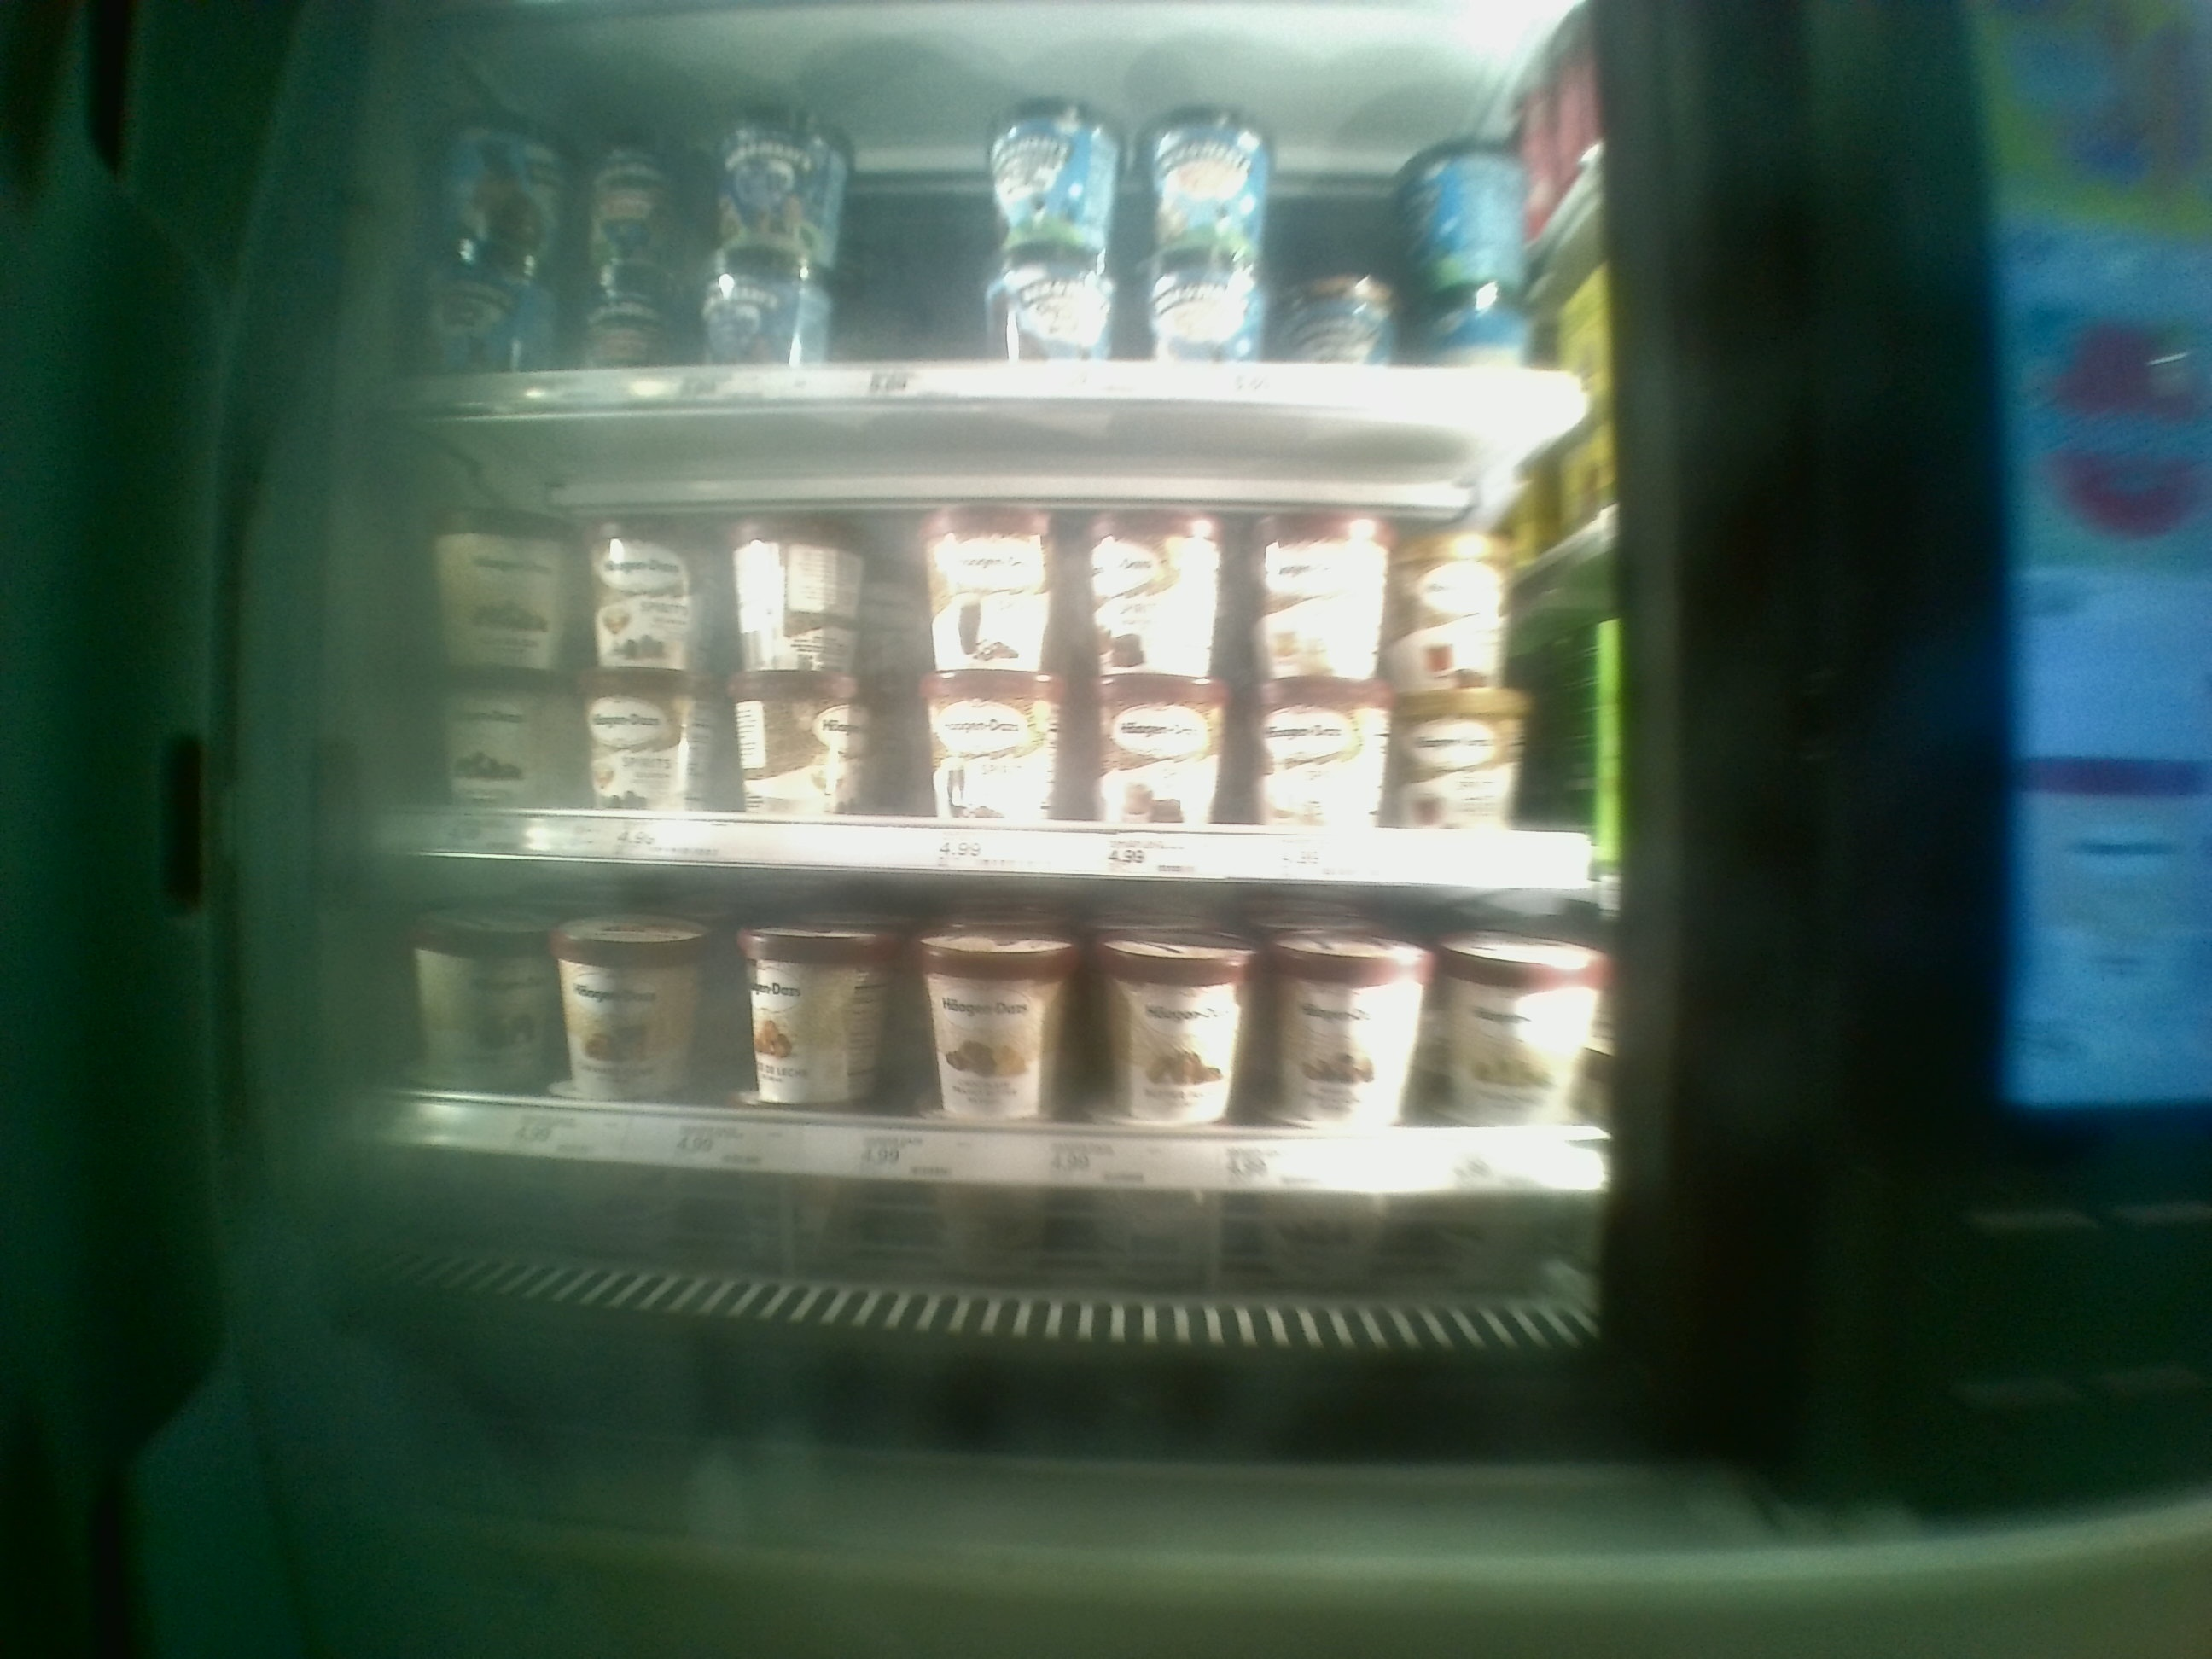ice-cream-shelf: (381, 408, 1611, 882), (374, 882, 1618, 1208)
